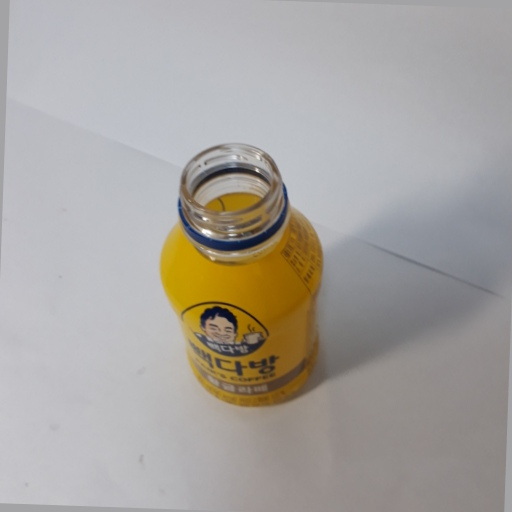Plastic_0: (150, 141, 329, 415)
